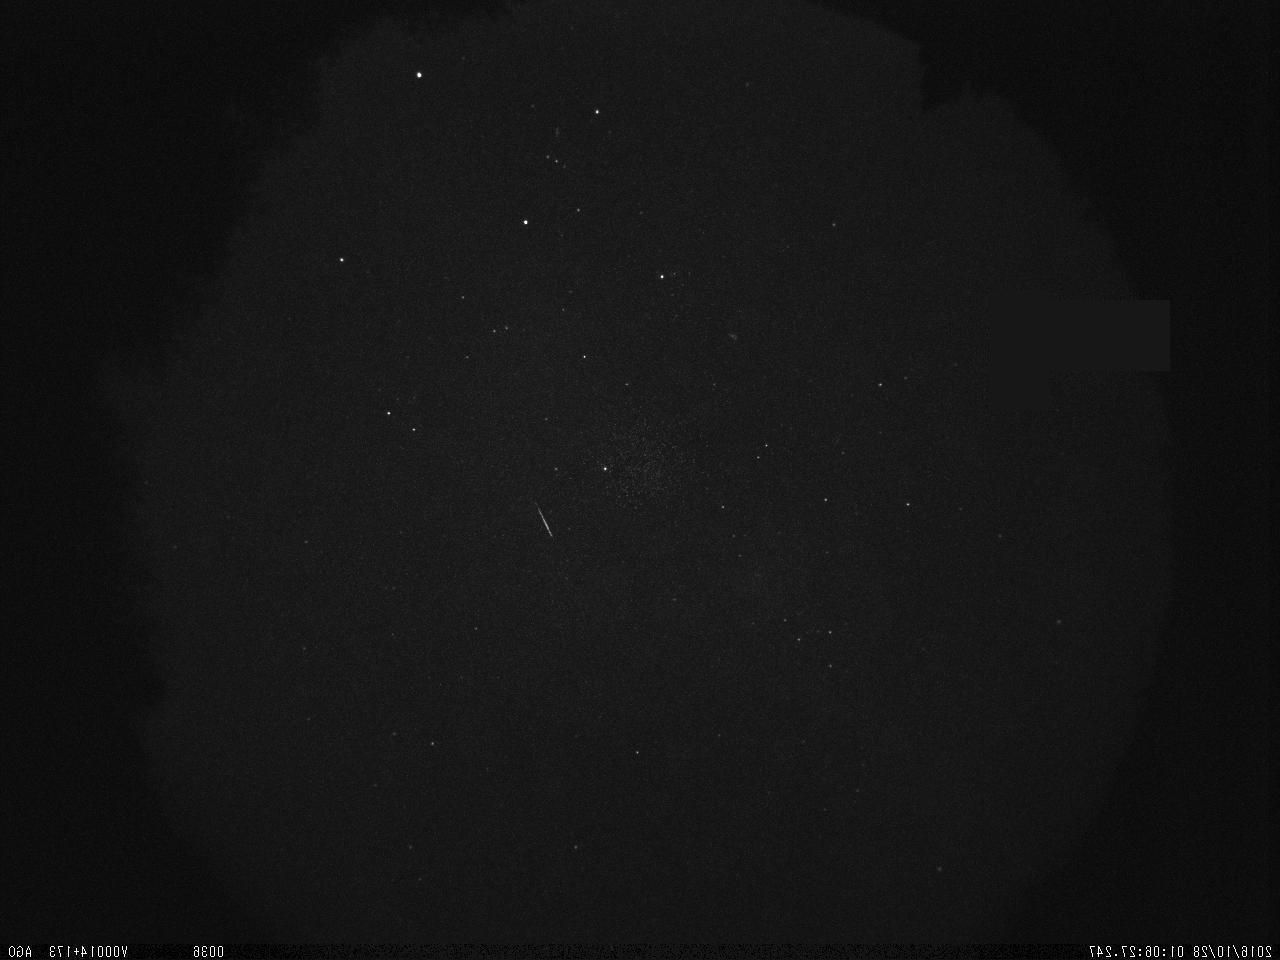meteor: (519, 494, 561, 548)
